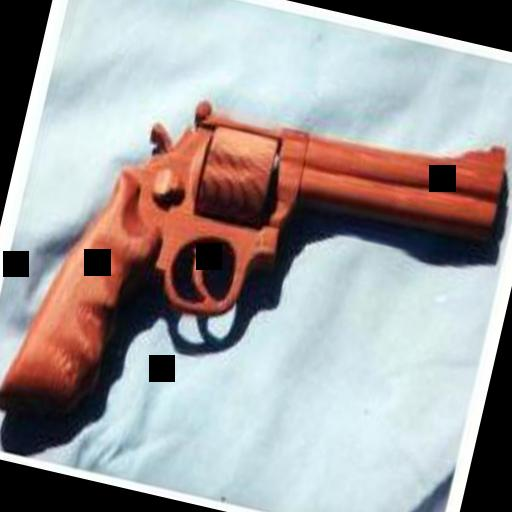Handgun: (0, 39, 512, 509)
